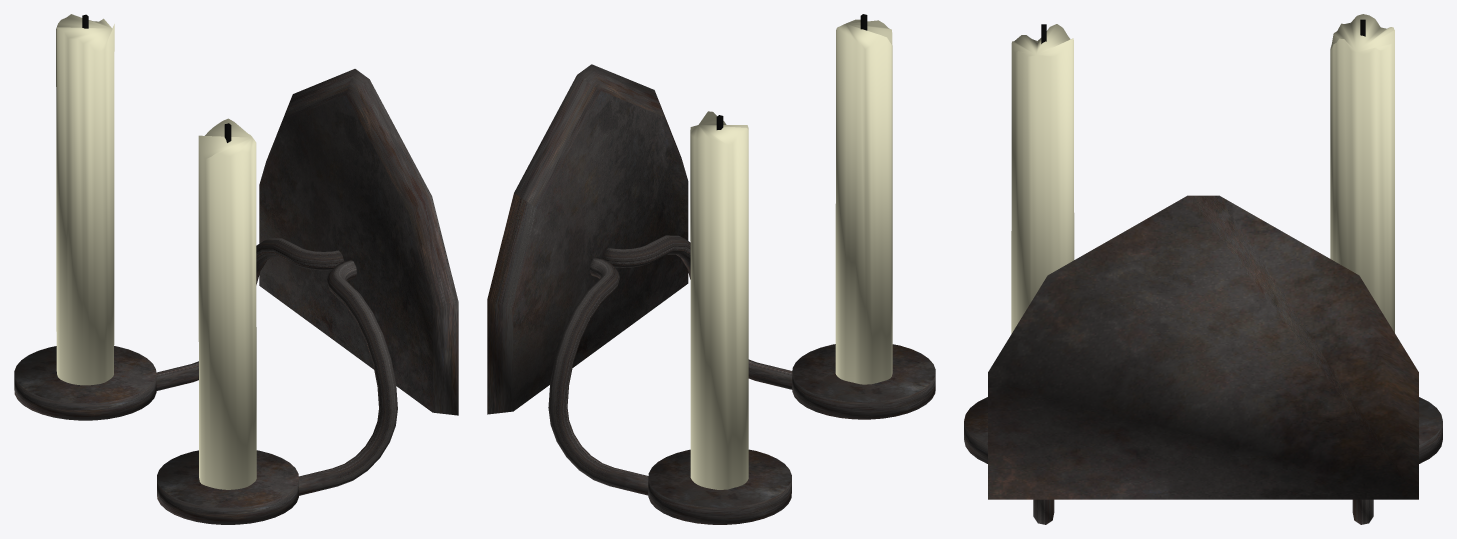
The model's file is candles_m1.fbx.
3 views of the same model, side by side, from view 1: azimuth 30°, elevation 25°; view 2: azimuth 150°, elevation 25°; view 3: azimuth 270°, elevation 25° (orthographic). The views are drawn at different scales.
Parts seen in each view (by area): view 1: Candles; view 2: Candles; view 3: Candles.
Boxes of the visible parts, left/top/right/bottom form: Candles: left=14, top=14, right=458, bottom=524; Candles: left=487, top=14, right=935, bottom=524; Candles: left=964, top=14, right=1442, bottom=524.
Size of the model in its own units: 0.9 by 0.65 by 0.9096.
